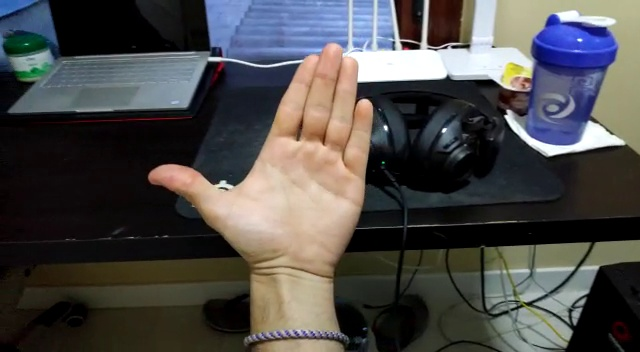Palm: (147, 42, 376, 280)
